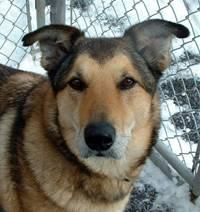dog: (0, 19, 188, 211)
